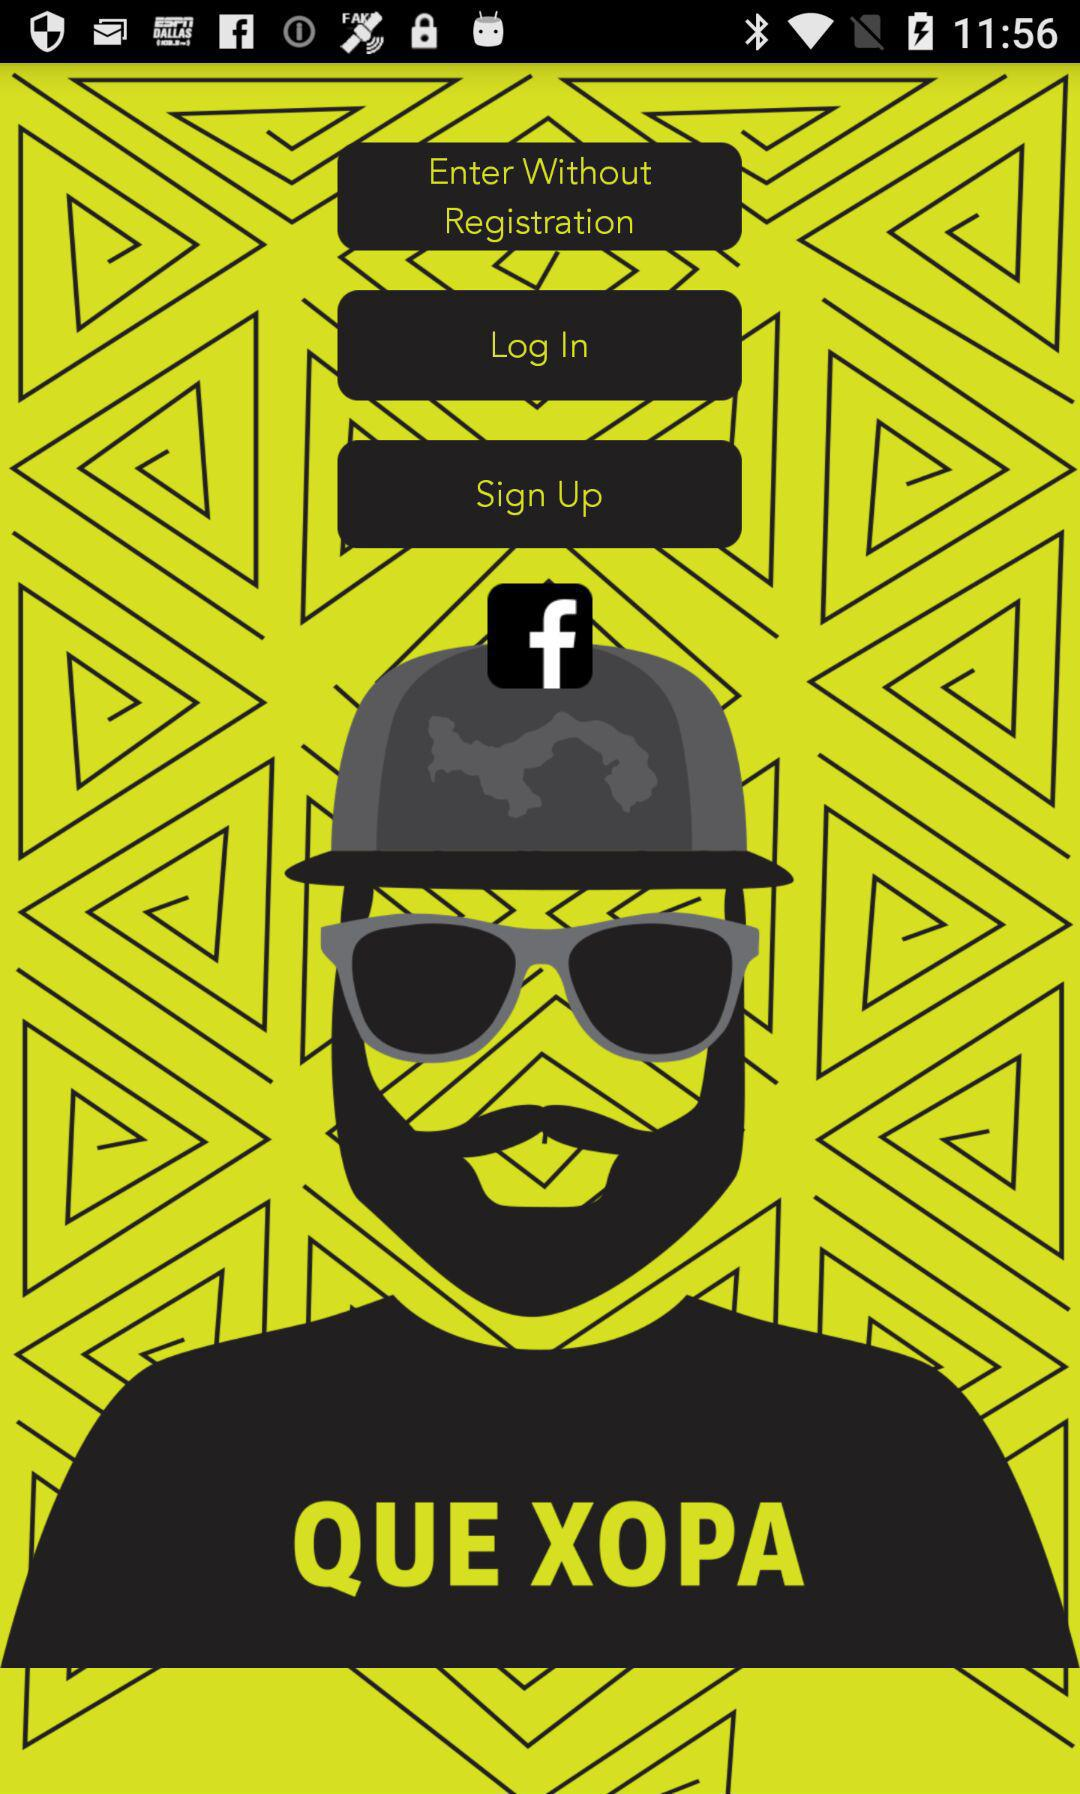BackgroundImage: (1, 64, 1080, 1794)
Icon: (487, 579, 594, 691)
TextButton: (337, 290, 744, 402), (337, 440, 744, 550), (337, 144, 743, 252)
UpperTaskBar: (1, 1, 1080, 64)
